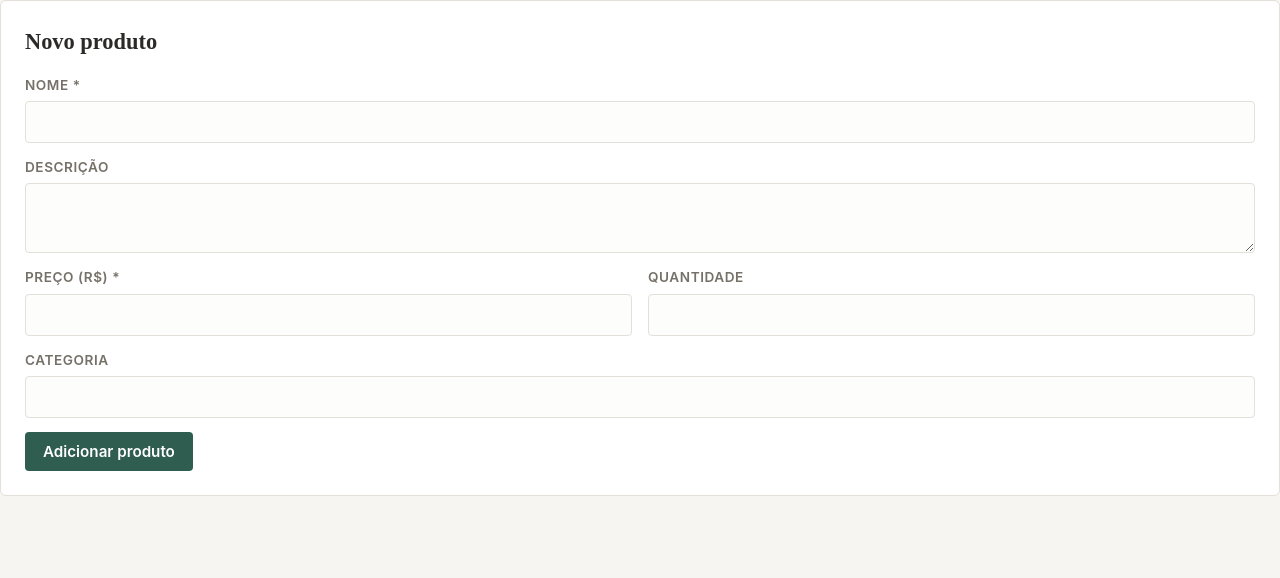
it: ProdutoForm › exibe erro ao tentar salvar sem informar o nome
Type "10" into the number field with test id "input-preco".
click(328, 315); type("10")  # box x1=25 y1=294 x2=632 y2=336
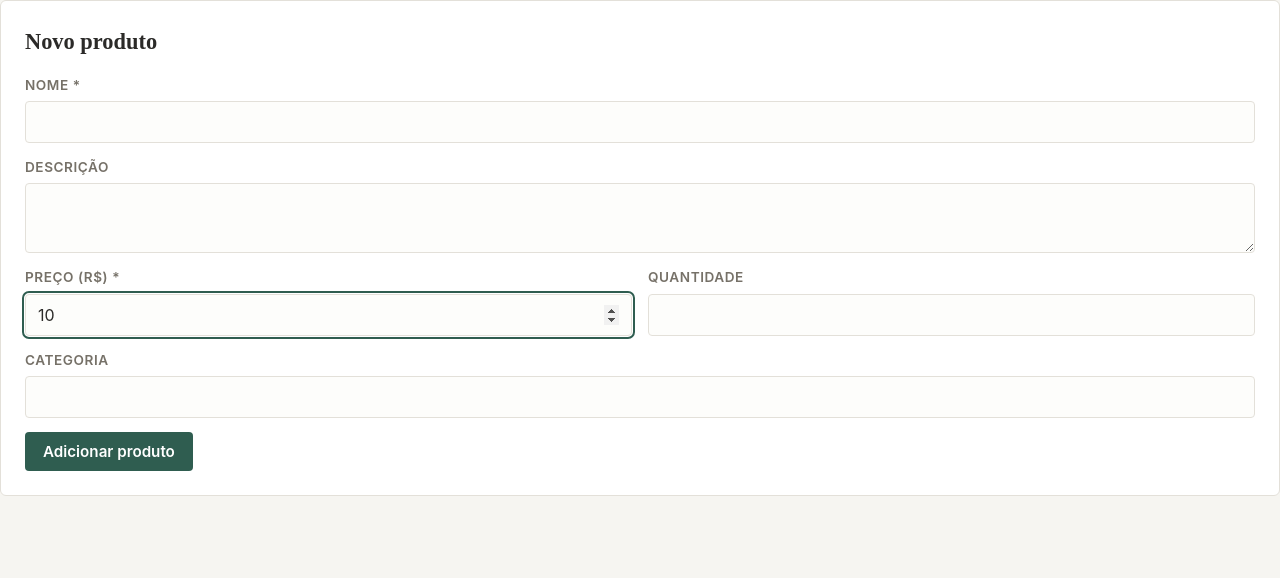
Click the button with test id "botao-salvar".
click(109, 452)  # box x1=25 y1=432 x2=193 y2=471
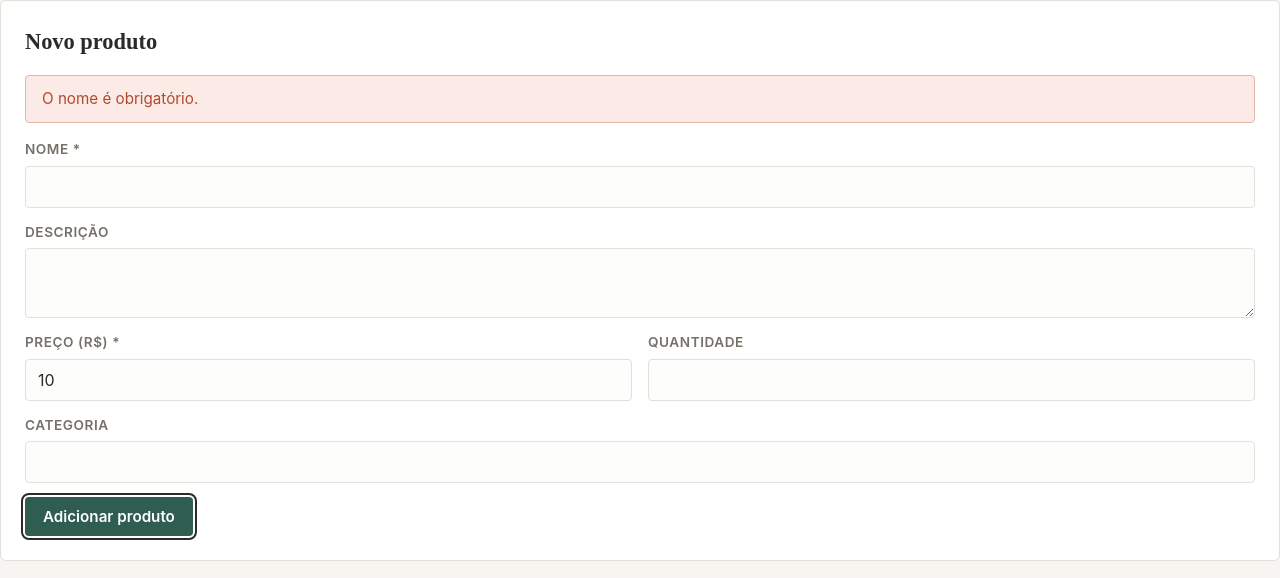
Check: the message with test id "form-erro" reads "O nome é obrigatório.", box x1=42 y1=89 x2=198 y2=108
